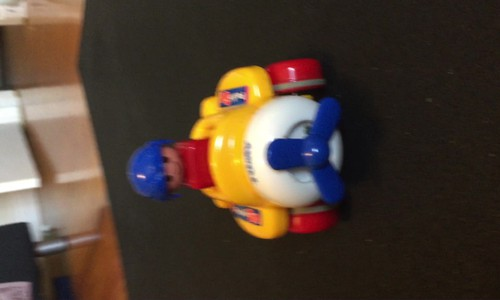toy: (131, 56, 347, 238)
